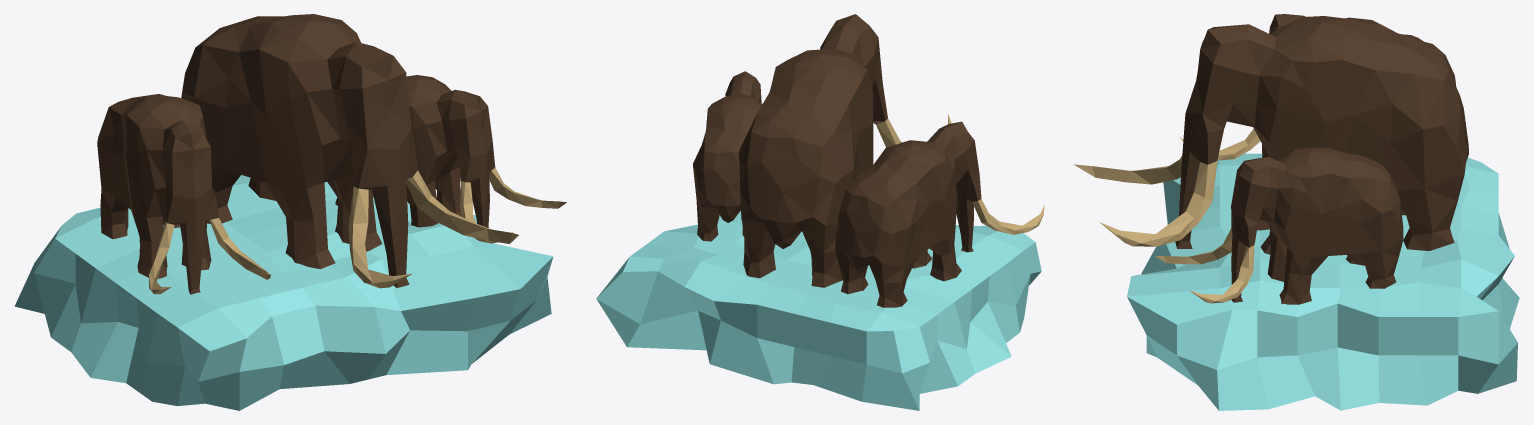
File: mamont.fbx
3 views of the same model, side by side, from view 1: azimuth 30°, elevation 25°; view 2: azimuth 150°, elevation 25°; view 3: azimuth 270°, elevation 25° (orthographic). The views are drawn at different scales.
Parts seen in each view (by area): view 1: Cube, Mammoth.003, Mammoth.002, Mammoth.001; view 2: Cube, Mammoth.003, Mammoth.002, Mammoth.001; view 3: Cube, Mammoth.003, Mammoth.001, Mammoth.002.
Boxes of the visible parts, left/top/right/bottom form: Cube: left=14, top=175, right=553, bottom=410; Mammoth.003: left=181, top=14, right=518, bottom=288; Mammoth.002: left=97, top=94, right=270, bottom=294; Mammoth.001: left=335, top=75, right=566, bottom=243; Cube: left=596, top=211, right=1041, bottom=410; Mammoth.003: left=738, top=14, right=951, bottom=287; Mammoth.002: left=835, top=121, right=1044, bottom=307; Mammoth.001: left=693, top=71, right=762, bottom=241; Cube: left=1127, top=153, right=1519, bottom=410; Mammoth.003: left=1073, top=16, right=1468, bottom=254; Mammoth.001: left=1155, top=147, right=1403, bottom=304; Mammoth.002: left=1179, top=14, right=1456, bottom=160.
Size of the model in its own units: 775 by 552 by 734.
